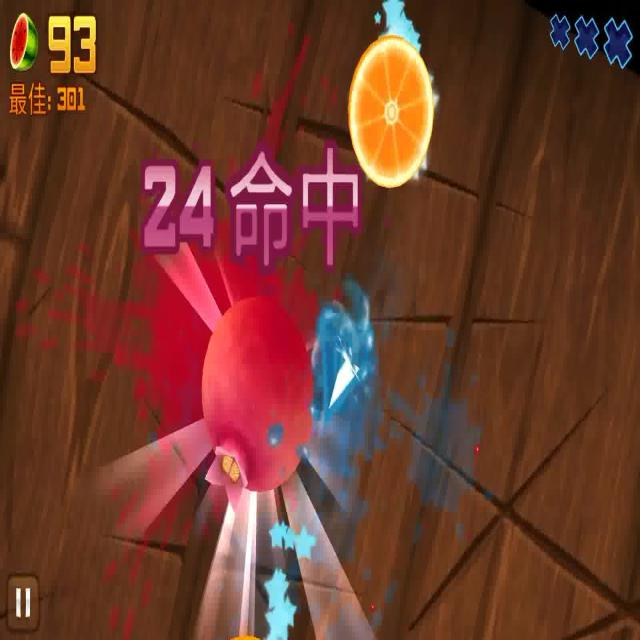fruit: (200, 298, 310, 488), (351, 38, 434, 184)
